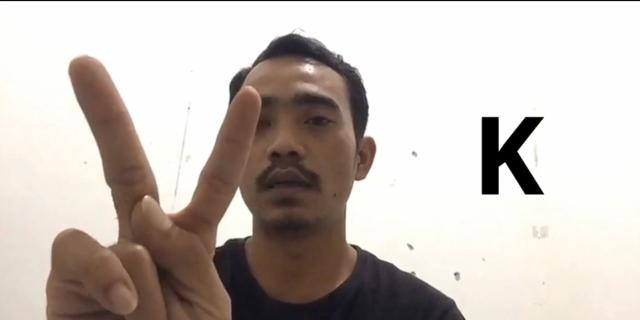K: (38, 54, 262, 320)
